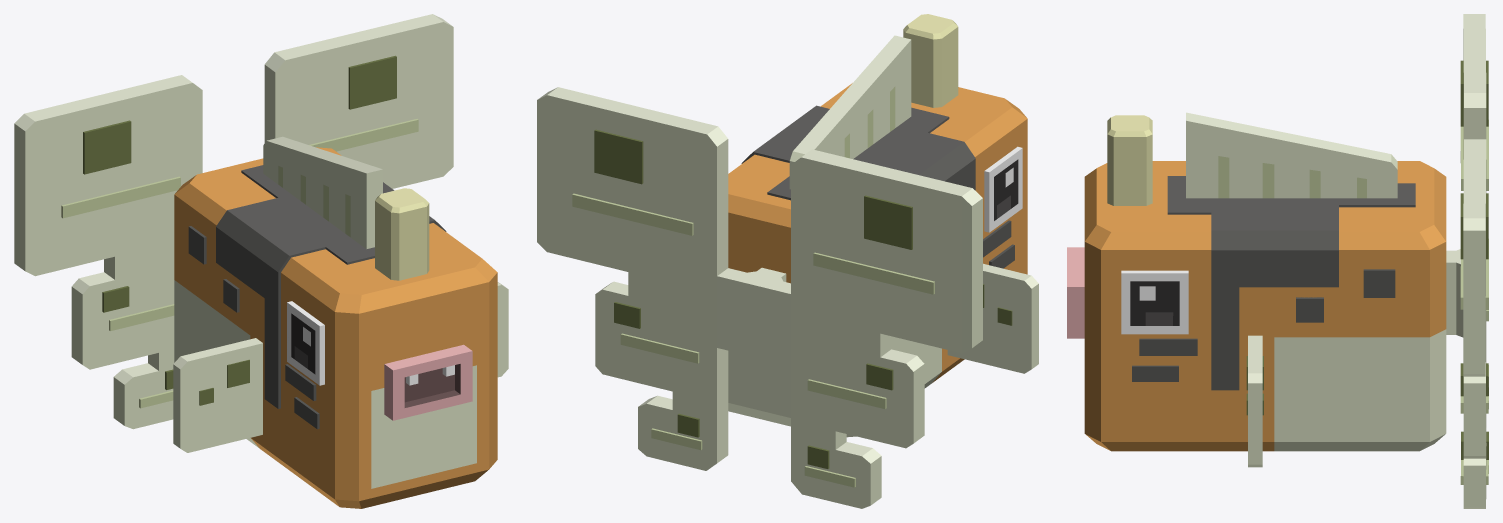
The model's file is model_shiny.obj.
3 renders of one model, left to right at view 1: azimuth 30°, elevation 25°; view 2: azimuth 150°, elevation 25°; view 3: azimuth 270°, elevation 25°, orthographic. The views are drawn at different scales.
Parts seen in each view (by area): view 1: 0119_seaking_shiny; view 2: 0119_seaking_shiny; view 3: 0119_seaking_shiny.
Boxes of the visible parts, x1,y1,x2,y2 form: 0119_seaking_shiny: (14, 14, 508, 508); 0119_seaking_shiny: (537, 14, 1038, 508); 0119_seaking_shiny: (1067, 14, 1488, 508).
Size of the model in its own units: 2.61 by 1.93 by 2.18.
1 material, 1 textured.
